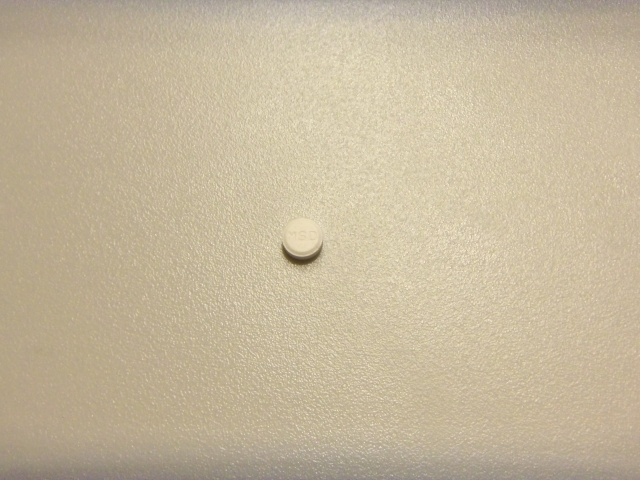D: (309, 230, 318, 243)
M: (286, 230, 297, 242)
S: (298, 230, 308, 242)
